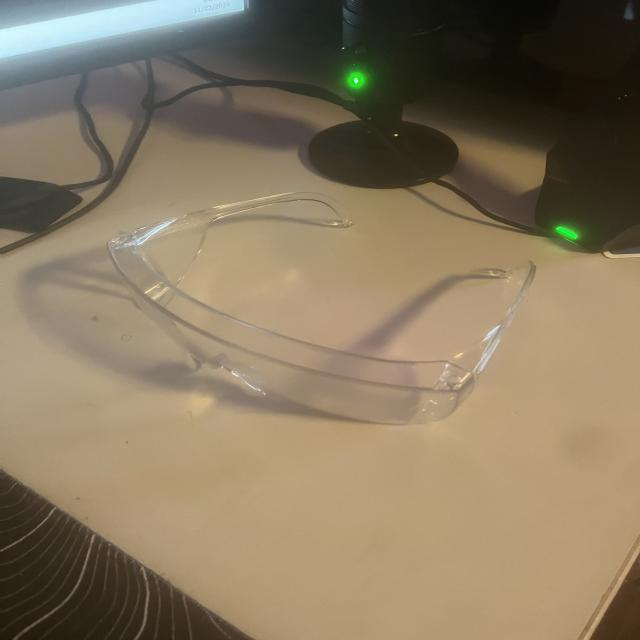Safety Glasses: (98, 184, 543, 438)
